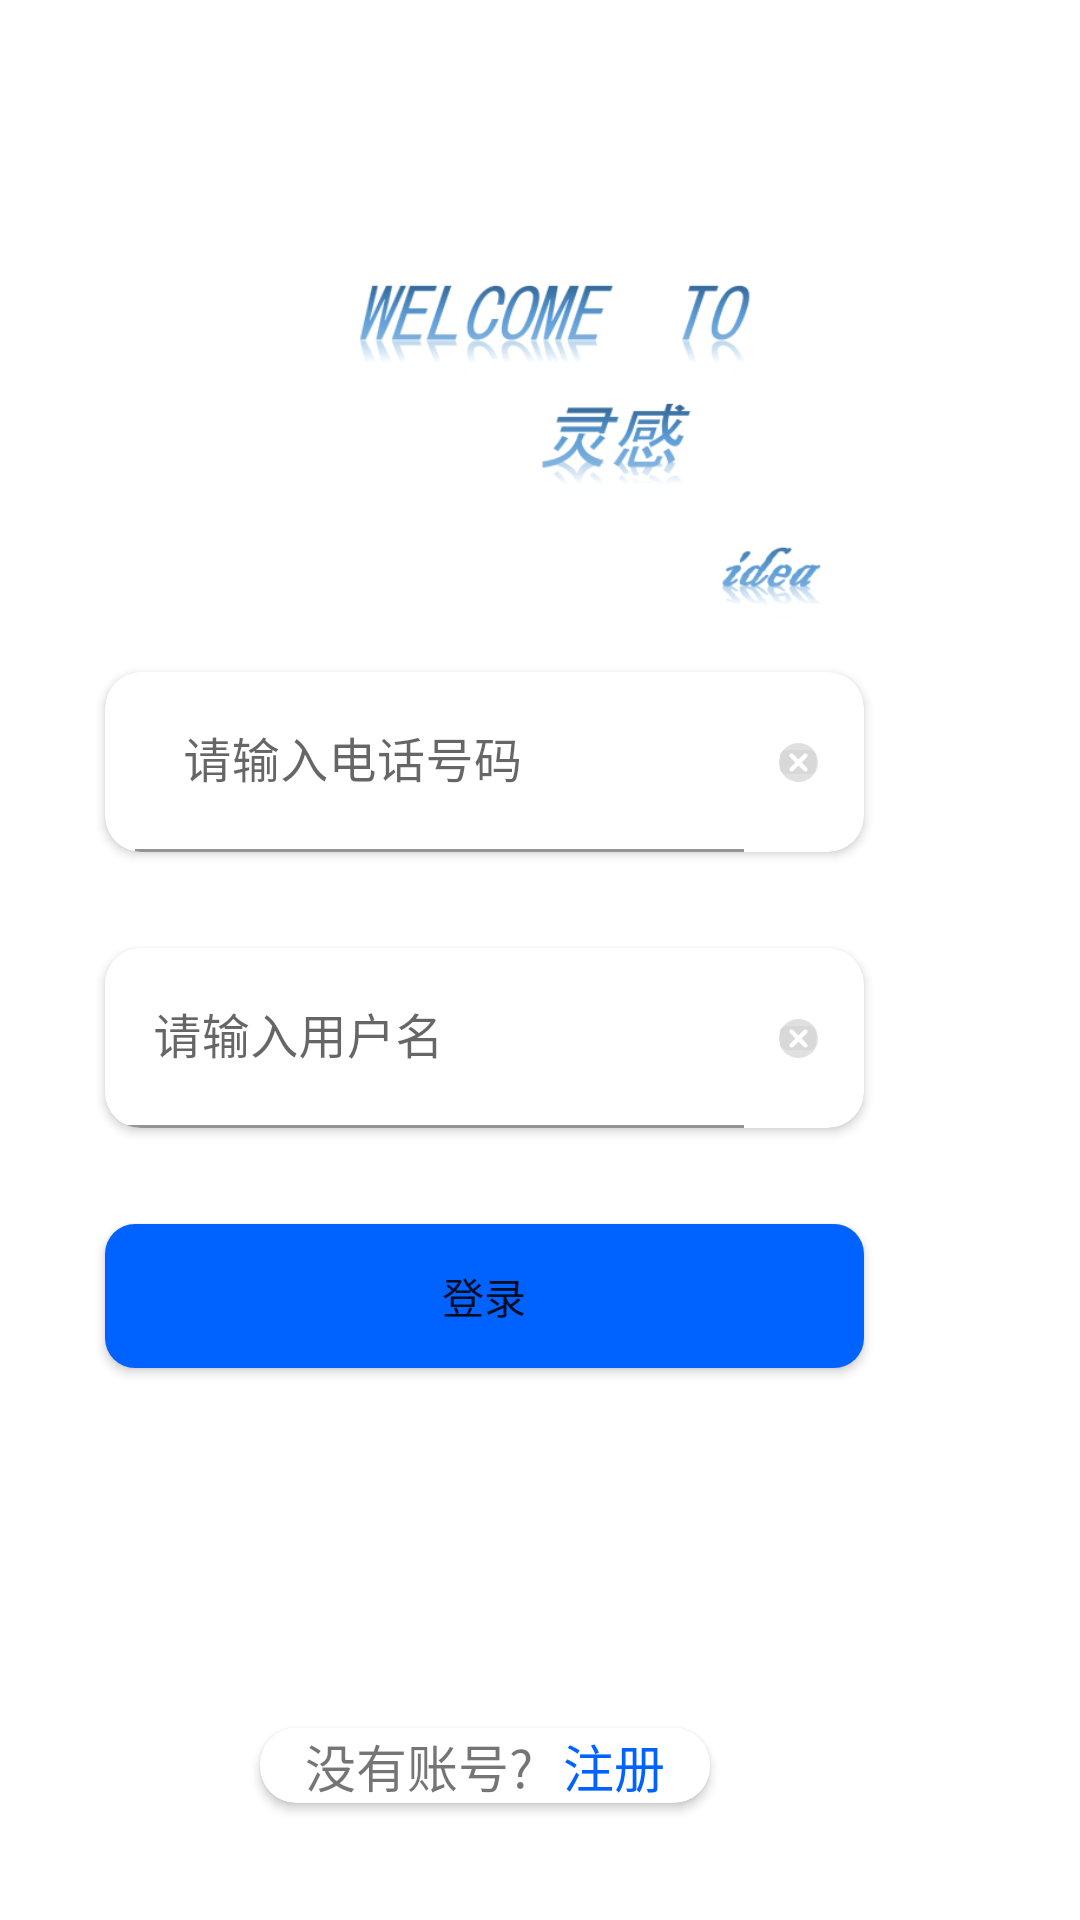

Screen size 1080px×1920px. Icon name, then its center in pixels as [x,y]:
login delete: [798,762], [798,1038]
